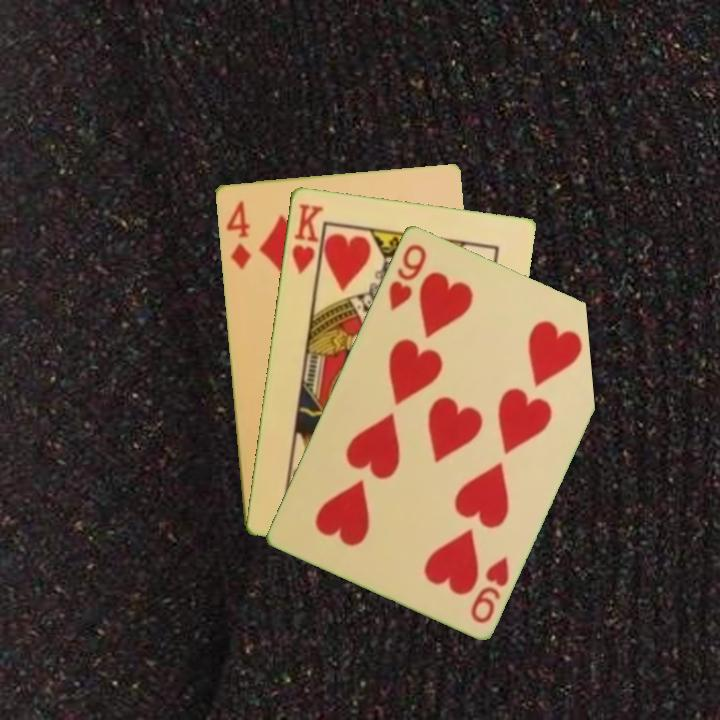4d: (222, 196, 254, 271)
9h: (466, 552, 512, 626), (384, 239, 429, 313)
Kh: (287, 199, 326, 283)
